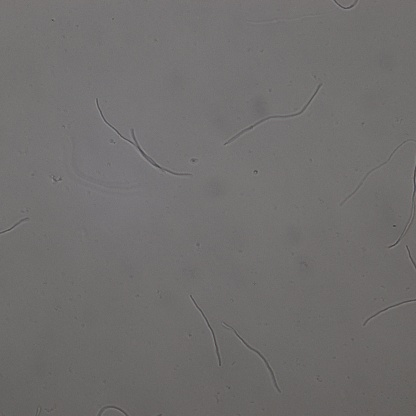Sensitive: (226, 85, 321, 143), (96, 99, 164, 172), (343, 138, 413, 202), (225, 322, 281, 393), (131, 130, 192, 179), (191, 295, 222, 366), (392, 165, 416, 245), (365, 297, 416, 326), (1, 217, 29, 241)
